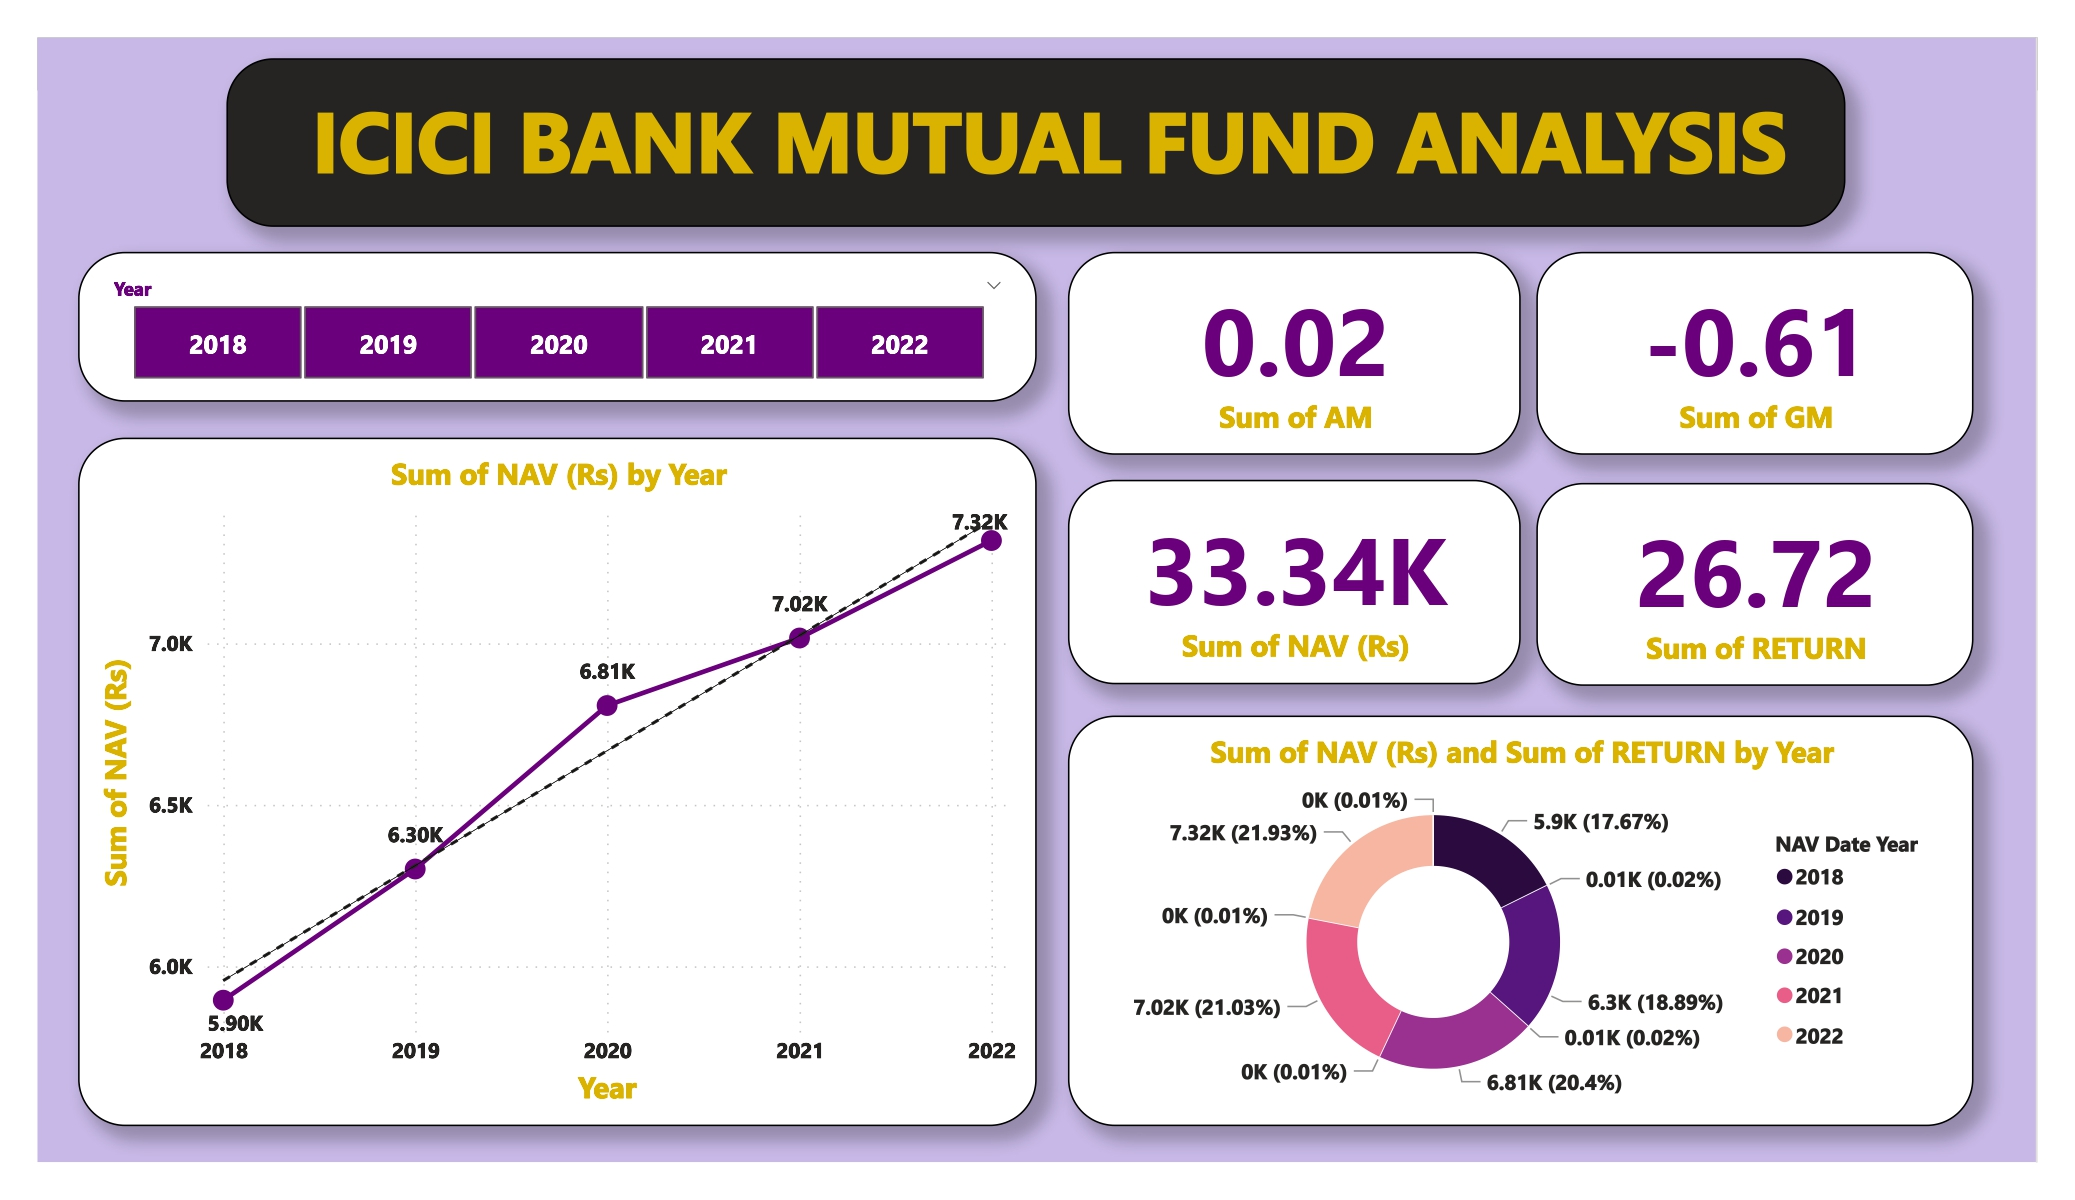

This screenshot's page, from the dashboard's own definition file:
{"tool":"powerbi","page":{"name":"ICICI","canvas":[1280,720],"ordinal":2},"visuals":[{"type":"textbox","box":[120.7,12.9,1037.6,107.8],"z":0},{"type":"slicer","fields":{"Values":["ICICI.NAV Date.Variation.Date Hierarchy.Year"]},"box":[25.9,136.5,613.7,96.3],"z":1000},{"type":"lineChart","fields":{"Category":["ICICI.NAV Date.Variation.Date Hierarchy.Year"],"Y":["Sum(ICICI.NAV (Rs))"]},"box":[25.9,255.8,613.7,441.2],"z":2000},{"type":"card","fields":{"Values":["Sum(ICICI - AM & GM.AM)"]},"box":[659.6,136.5,290.3,130.8],"z":3000},{"type":"card","fields":{"Values":["Sum(ICICI - AM & GM.GM)"]},"box":[960,136.5,280.2,130.8],"z":4000},{"type":"card","fields":{"Values":["Sum(ICICI.NAV (Rs))"]},"box":[659.6,283.1,290.3,130.8],"z":5000},{"type":"card","fields":{"Values":["Sum(ICICI.RETURN)"]},"box":[960,284.6,280.2,130.8],"z":6000},{"type":"donutChart","fields":{"Y":["Sum(ICICI.NAV (Rs))","Sum(ICICI.RETURN)"],"Category":["ICICI.NAV Date.Variation.Date Hierarchy.Year","ICICI.NAV Date.Variation.Date Hierarchy.Quarter","ICICI.NAV Date.Variation.Date Hierarchy.Month","ICICI.NAV Date.Variation.Date Hierarchy.Day"]},"box":[659.6,434,580.6,263],"z":7000}]}

Visuals, with their boxes on the page's 1280x720 design canvas (x1, y1, x2, y2). These are canvas units, not pixel positions in the 2075x1200 screenshot, which may show the page scaled, cropped or inside an application window:
textbox: BBox(121, 13, 1158, 121)
slicer - ICICI.NAV Date.Variation.Date Hierarchy.Year: BBox(26, 136, 640, 233)
lineChart - ICICI.NAV Date.Variation.Date Hierarchy.Year x Sum(ICICI.NAV (Rs)): BBox(26, 256, 640, 697)
card - Sum(ICICI - AM & GM.AM): BBox(660, 136, 950, 267)
card - Sum(ICICI - AM & GM.GM): BBox(960, 136, 1240, 267)
card - Sum(ICICI.NAV (Rs)): BBox(660, 283, 950, 414)
card - Sum(ICICI.RETURN): BBox(960, 285, 1240, 415)
donutChart - Sum(ICICI.NAV (Rs)) x Sum(ICICI.RETURN): BBox(660, 434, 1240, 697)
